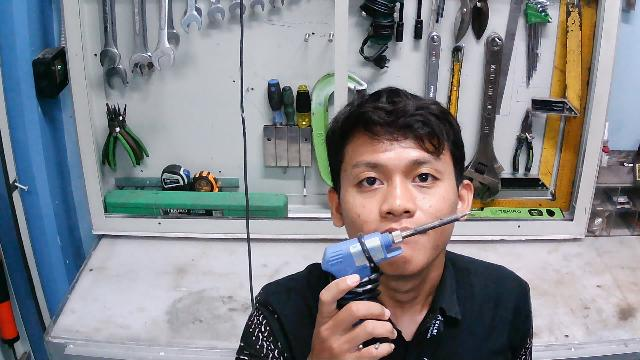solder_electrical: (319, 208, 475, 331)
